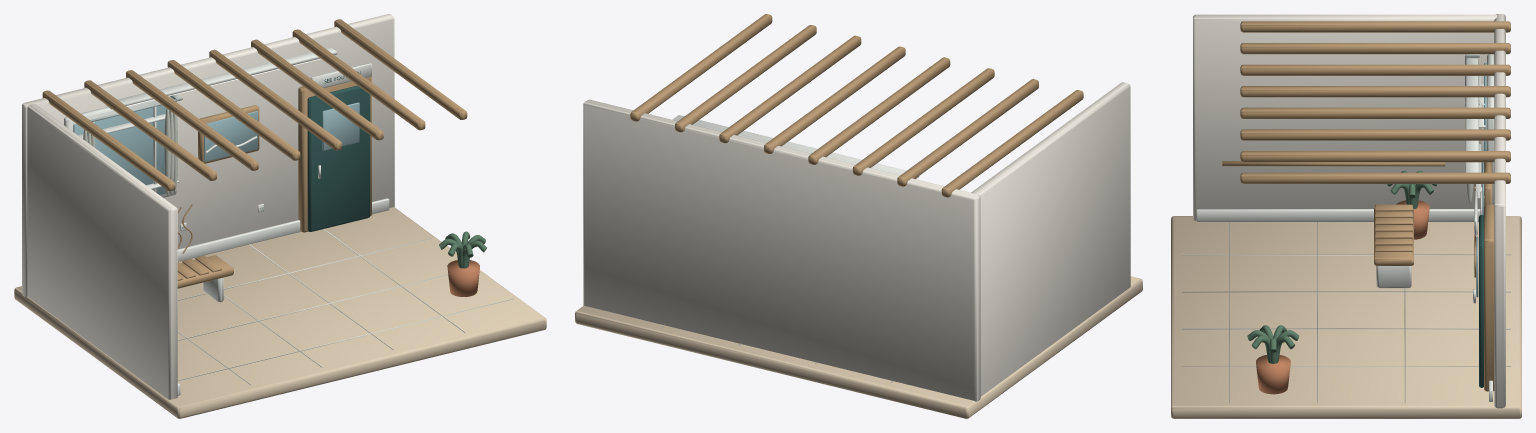
File: exit.glb
3 renders of one model, left to right at view 1: azimuth 30°, elevation 25°; view 2: azimuth 150°, elevation 25°; view 3: azimuth 270°, elevation 25°, orthographic. The views are drawn at different scales.
Visible parts, largest first — view 1: Floor, SideWall, RearWall, Door, Window, RearSkirting, ShadeSlat.003, ShadeSlat, ShadeSlat.006, ShadeSlat.007, ShadeSlat.005, ShadeSlat.002 (+12 smaller); view 2: RearWall, SideWall, Floor, ShadeSlat.005, ShadeSlat, ShadeSlat.002, ShadeSlat.003, ShadeSlat.007, ShadeSlat.001, ShadeSlat.004, ShadeSlat.006, LightHousing; view 3: Floor, SideWall, RearWall, ShadeSlat.002, ShadeSlat.007, ShadeSlat.004, ShadeSlat.005, ShadeSlat, ShadeSlat.003, ShadeSlat.006, ShadeSlat.001, SideSkirting (+12 smaller).
Part boxes in pixels (box(x1,y1,x2,y2)): Floor: box(14, 207, 546, 418); SideWall: box(27, 103, 177, 399); RearWall: box(22, 14, 394, 296); Door: box(307, 85, 370, 231); Window: box(73, 105, 169, 194); RearSkirting: box(177, 198, 389, 261); ShadeSlat.003: box(167, 60, 300, 160); ShadeSlat: box(42, 90, 175, 191); ShadeSlat.006: box(292, 29, 425, 130); ShadeSlat.007: box(334, 19, 467, 119); ShadeSlat.005: box(251, 39, 383, 140); ShadeSlat.002: box(126, 70, 258, 170); RearWall: box(583, 99, 980, 401); SideWall: box(971, 82, 1130, 396); Floor: box(575, 276, 1142, 418); ShadeSlat.005: box(719, 35, 861, 143); ShadeSlat: box(941, 90, 1083, 197); ShadeSlat.002: box(852, 68, 994, 175); ShadeSlat.003: box(808, 57, 950, 164); ShadeSlat.007: box(630, 14, 772, 121); ShadeSlat.001: box(897, 79, 1038, 186); ShadeSlat.004: box(764, 46, 905, 153); ShadeSlat.006: box(675, 25, 816, 132); LightHousing: box(672, 115, 919, 178); Floor: box(1171, 216, 1521, 418); SideWall: box(1193, 14, 1496, 220); RearWall: box(1494, 14, 1505, 408); ShadeSlat.002: box(1240, 64, 1510, 75); ShadeSlat.007: box(1240, 172, 1510, 183); ShadeSlat.004: box(1240, 107, 1510, 118); ShadeSlat.005: box(1240, 129, 1510, 140); ShadeSlat: box(1240, 21, 1510, 32); ShadeSlat.003: box(1240, 86, 1510, 97); ShadeSlat.006: box(1240, 151, 1510, 162); ShadeSlat.001: box(1240, 43, 1510, 54); SideSkirting: box(1196, 209, 1480, 222).
Size of the model in its own units: 6.2 by 3.32 by 4.8.
